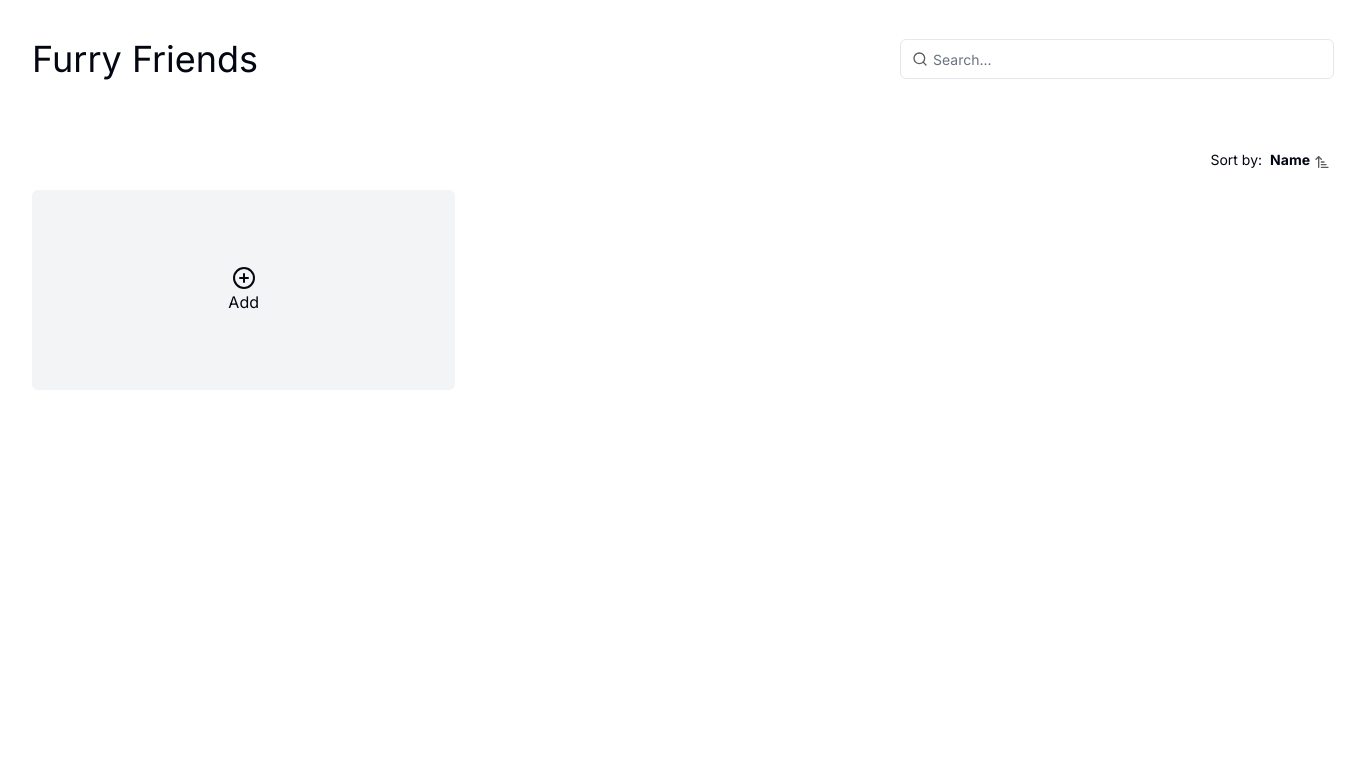
Test: Navigation › should handle form validation
The image size is (1366, 768).
Find Add Cat card and click on it
Click the element with test id "add-cat-card".
click(244, 290)  # box [32,190,455,390]
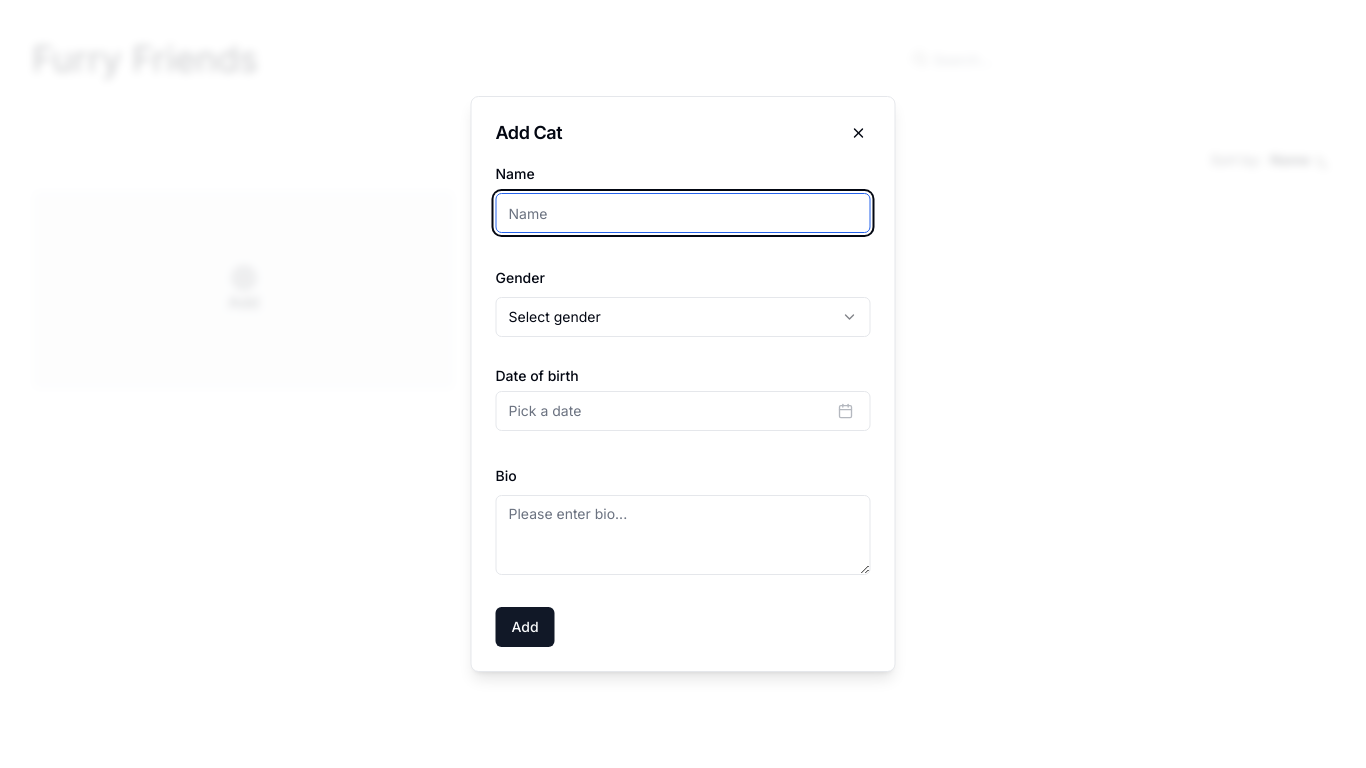
Submit the form without filling out any fields
Click the submit button.
click(526, 627)  # box [496,607,555,647]
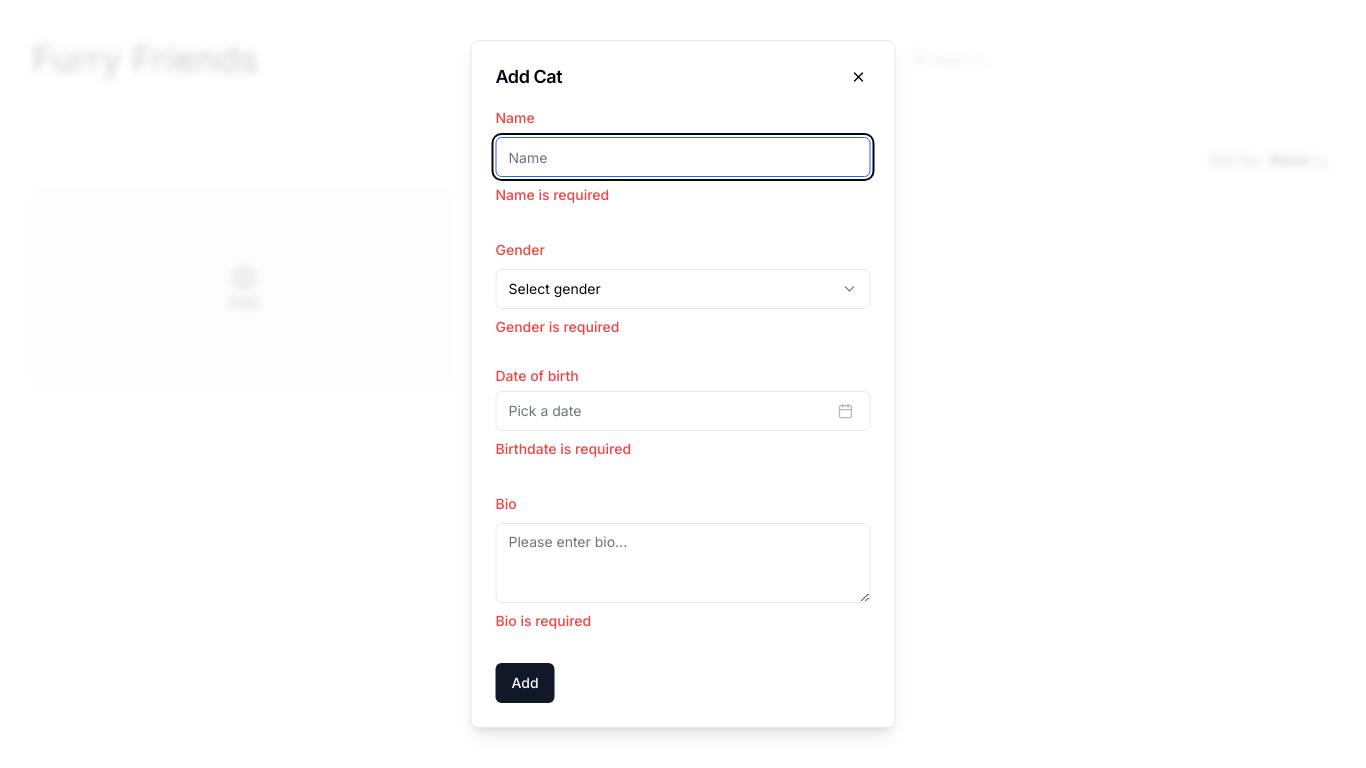
Now the text "Name is required" is shown, box [496,186,609,203]
Now the text "Gender is required" is shown, box [496,318,619,335]
Now the text "Birthdate is required" is shown, box [496,440,631,457]
